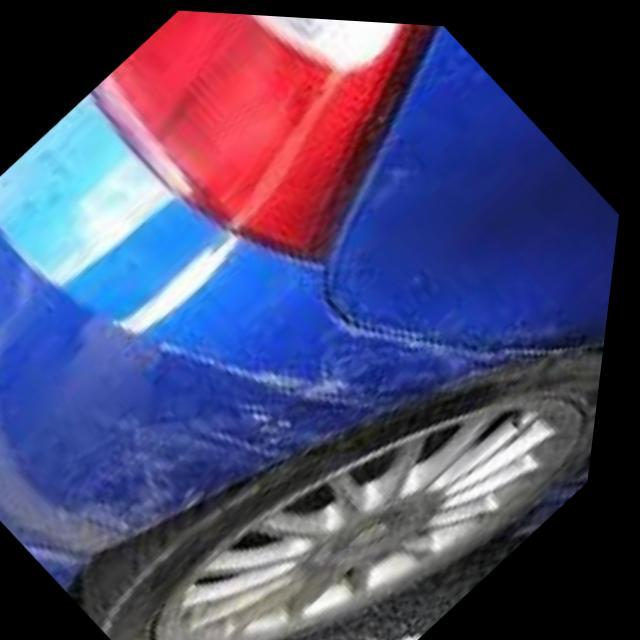rub: (39, 296, 613, 564)
